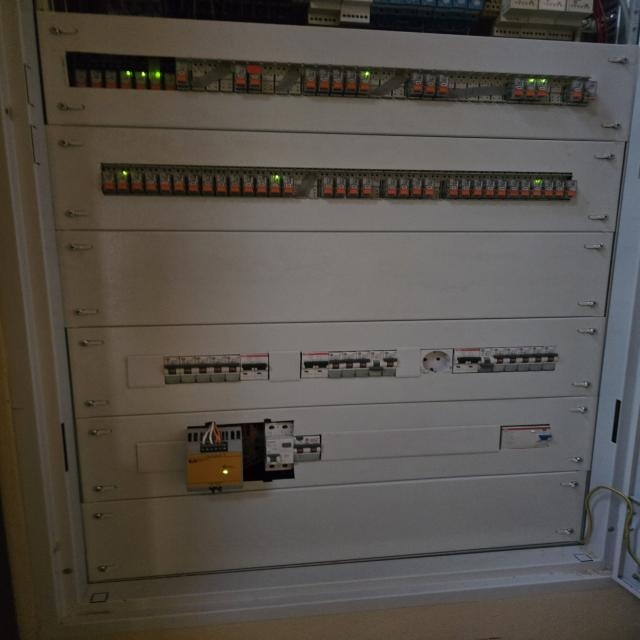Dimmer: (546, 0, 594, 41), (519, 0, 568, 40), (493, 0, 539, 37), (308, 1, 344, 25), (340, 0, 374, 22), (461, 0, 484, 22), (447, 0, 469, 20), (416, 0, 438, 18), (432, 0, 452, 19), (401, 0, 421, 17), (386, 0, 405, 16), (370, 0, 390, 14)
FI: (499, 425, 552, 450)
FI_Sicherungskombi: (265, 422, 293, 471)
Leitungsschutzschalter: (163, 357, 180, 384), (195, 355, 211, 383), (180, 356, 196, 383), (210, 355, 226, 382), (300, 352, 316, 379), (452, 349, 470, 373), (381, 351, 398, 376), (478, 348, 495, 373), (327, 352, 343, 378), (341, 351, 357, 377), (225, 354, 240, 381), (240, 354, 255, 381), (368, 351, 384, 376), (254, 354, 269, 380), (314, 352, 329, 378), (355, 351, 370, 377), (306, 435, 321, 461), (466, 348, 481, 373), (505, 347, 520, 372), (542, 346, 557, 371), (493, 348, 508, 372), (517, 347, 532, 371), (530, 347, 545, 371), (293, 436, 306, 462)
Relais: (176, 60, 190, 90), (247, 64, 261, 92), (568, 79, 584, 103), (234, 65, 247, 92), (317, 69, 330, 95), (331, 69, 344, 95), (303, 69, 317, 93), (410, 73, 424, 97), (510, 77, 524, 101), (102, 170, 116, 193), (436, 74, 449, 98), (201, 172, 214, 196), (358, 71, 370, 96), (345, 71, 357, 95), (131, 171, 144, 193), (145, 172, 158, 194), (159, 172, 172, 194), (173, 172, 186, 194), (227, 174, 240, 196), (117, 170, 129, 193), (215, 173, 227, 196), (524, 78, 536, 100), (535, 78, 547, 100), (242, 174, 254, 196), (347, 176, 359, 198), (360, 176, 372, 198), (584, 81, 597, 101), (321, 176, 333, 197), (385, 177, 397, 198), (120, 70, 133, 89), (148, 71, 161, 90), (269, 174, 280, 196), (507, 179, 519, 199), (564, 180, 577, 198), (188, 174, 199, 195), (283, 176, 294, 197), (398, 177, 409, 198), (411, 177, 422, 198), (423, 178, 434, 199), (135, 71, 147, 90), (531, 179, 543, 198), (335, 177, 346, 197), (75, 69, 87, 87), (90, 70, 102, 88), (105, 70, 117, 88), (425, 74, 435, 95), (257, 175, 267, 196), (472, 179, 483, 198), (164, 73, 176, 90), (448, 178, 458, 197), (460, 179, 470, 198), (520, 179, 530, 198), (485, 179, 495, 197), (555, 180, 565, 198), (544, 180, 554, 197), (497, 179, 506, 197)
